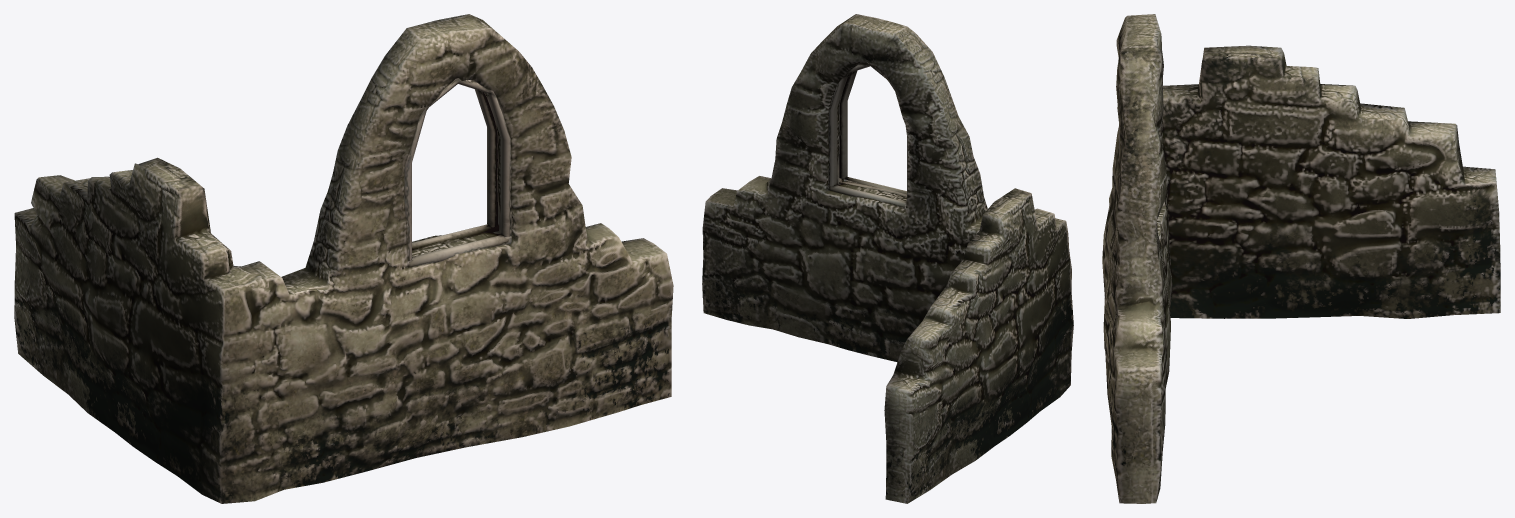
File: zamok12.fbx
3 views of the same model, side by side, from view 1: azimuth 30°, elevation 25°; view 2: azimuth 150°, elevation 25°; view 3: azimuth 270°, elevation 25° (orthographic). The views are drawn at different scales.
Parts seen in each view (by area): view 1: Lp+.013; view 2: Lp+.013; view 3: Lp+.013.
Part boxes in pixels (left/top/right/bottom): Lp+.013: left=14, top=14, right=673, bottom=503; Lp+.013: left=702, top=14, right=1073, bottom=503; Lp+.013: left=1102, top=14, right=1500, bottom=503.
Size of the model in its own units: 2820 by 2407 by 2286.
